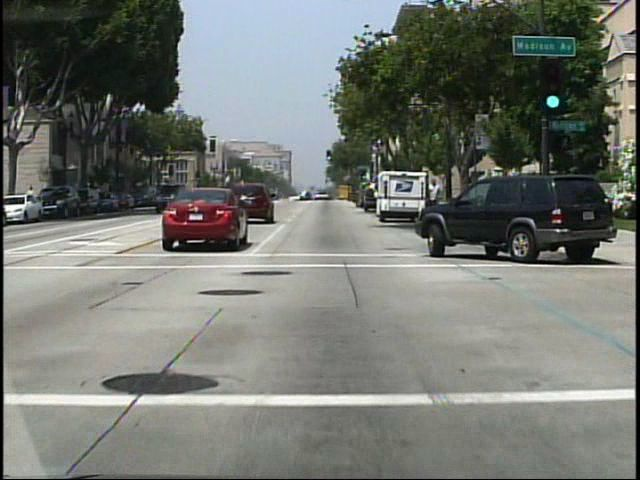person: (425, 178, 443, 220), (351, 184, 365, 211), (28, 184, 39, 211)
